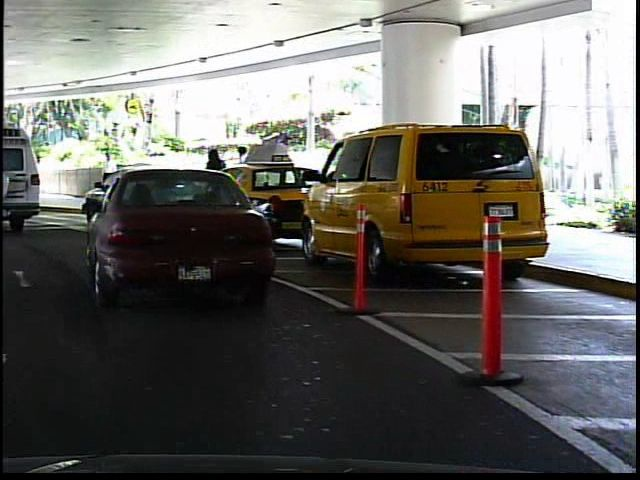person: (200, 142, 233, 208), (235, 139, 261, 208), (97, 145, 121, 203), (25, 155, 46, 198)
